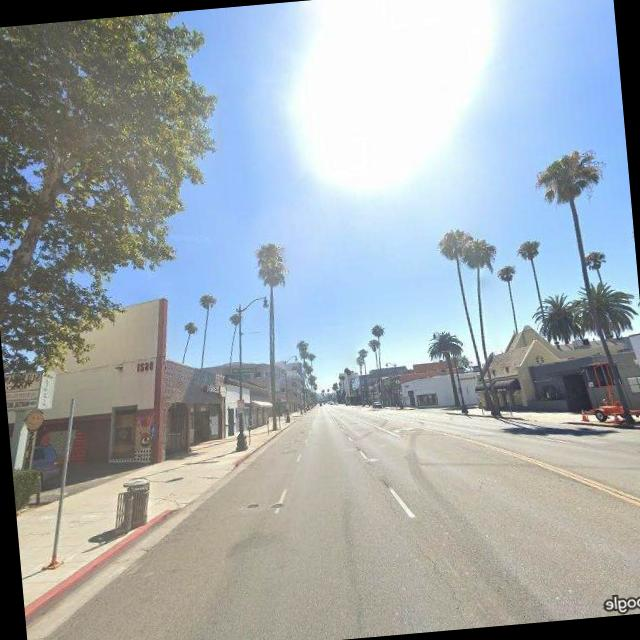pothole: (416, 532, 477, 630)
